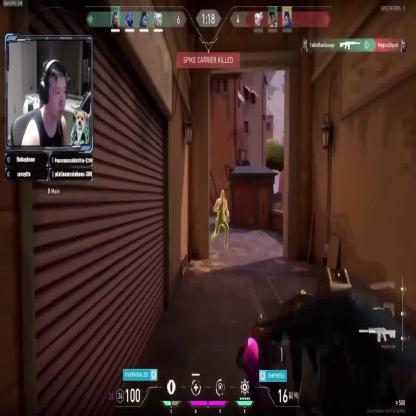enemy: (210, 188, 231, 250)
enemy_head: (220, 190, 225, 200)
